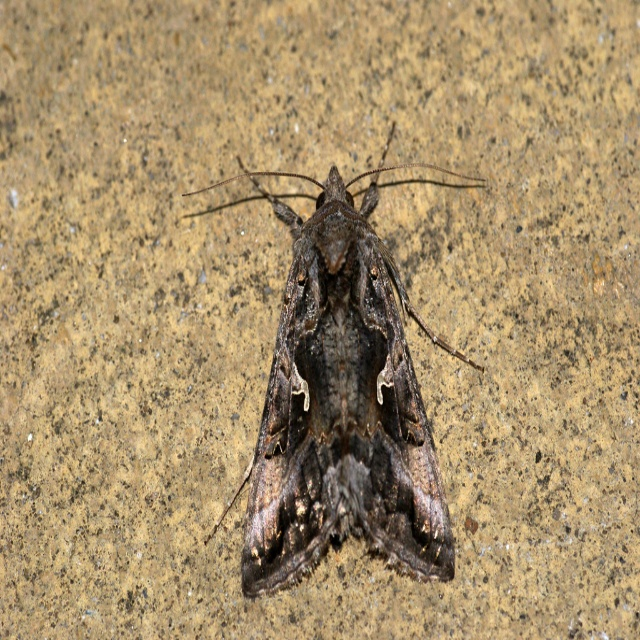Moths and butterflies: (181, 116, 487, 602)
